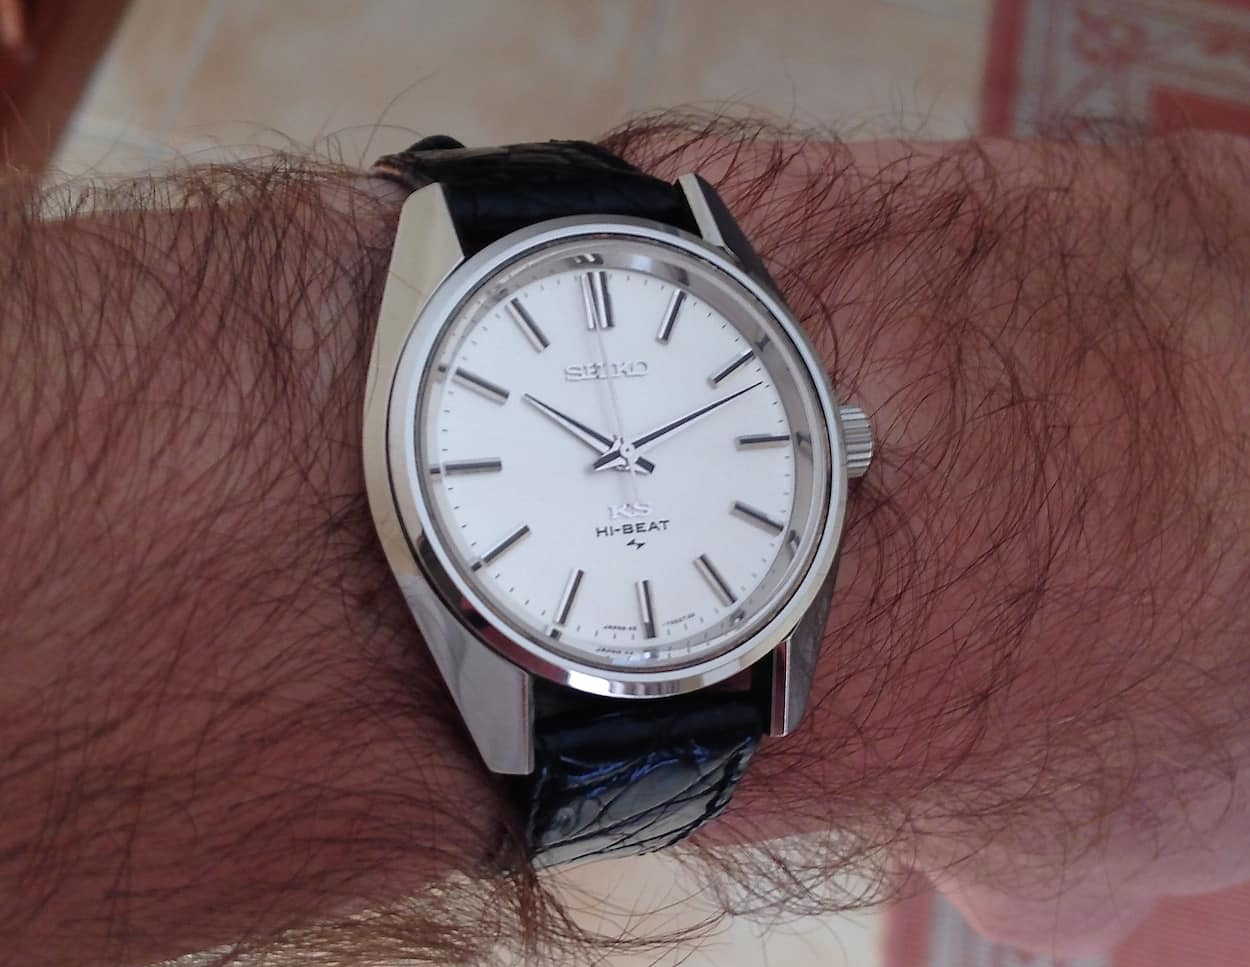clock: (411, 229, 831, 679)
